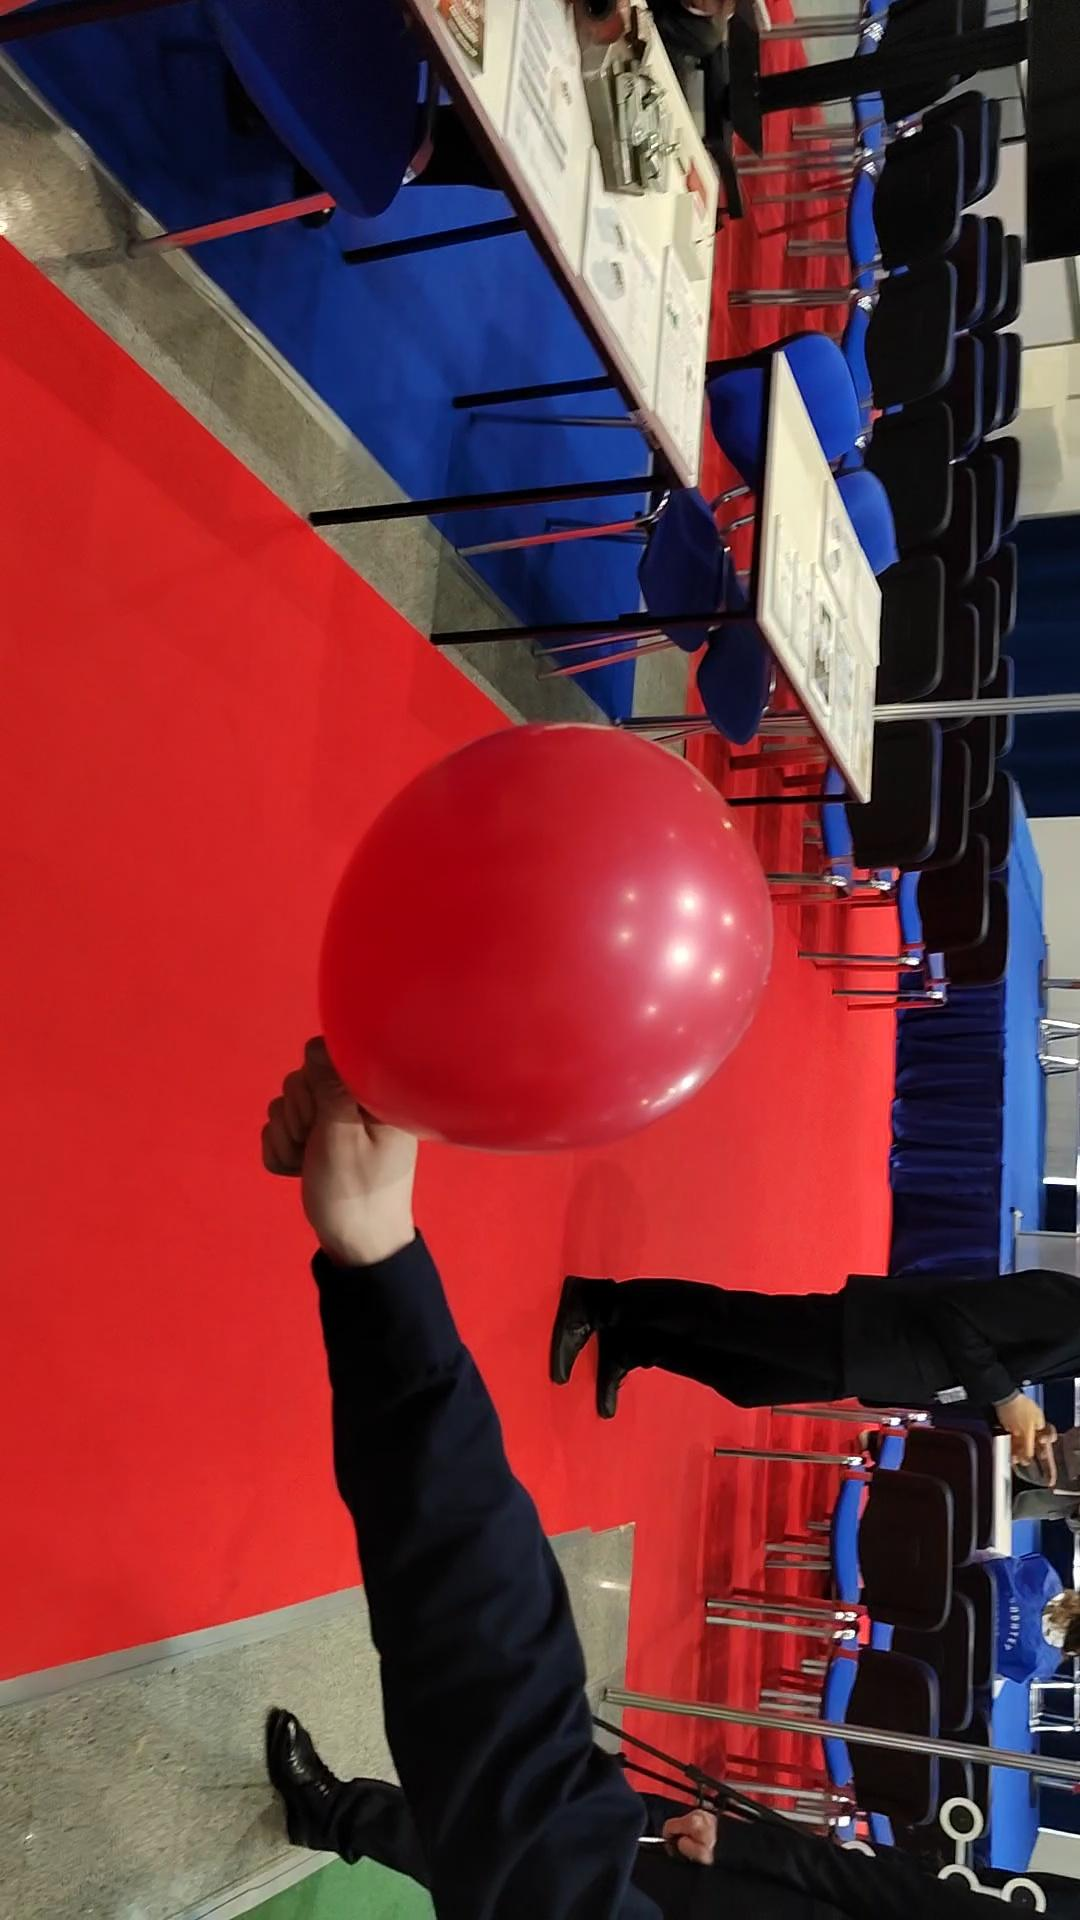red: (307, 707, 779, 1168)
